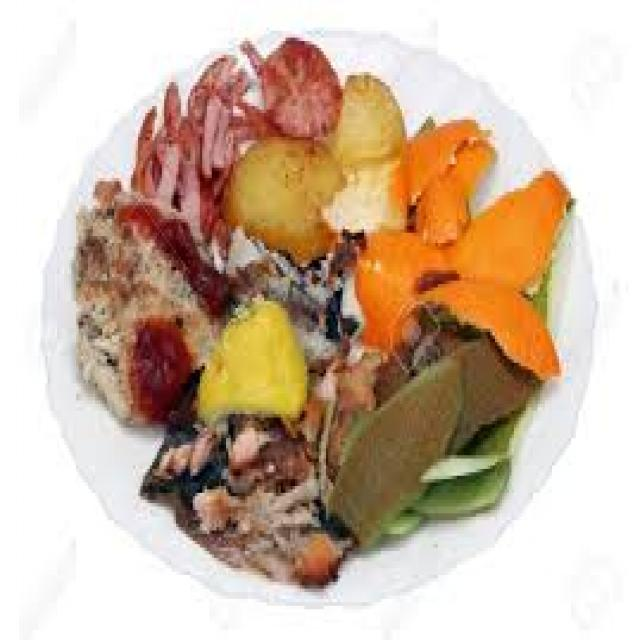organic waste: (76, 178, 233, 421), (328, 346, 457, 540), (217, 226, 364, 363), (381, 400, 521, 538), (176, 472, 352, 578), (386, 270, 559, 370), (378, 332, 536, 441), (219, 134, 342, 264), (447, 164, 569, 291), (128, 82, 226, 240), (190, 294, 304, 424), (352, 232, 452, 346), (295, 342, 378, 479), (238, 31, 340, 137), (414, 137, 492, 236), (393, 116, 483, 198), (324, 72, 404, 164), (319, 158, 407, 240), (188, 48, 245, 161), (224, 418, 312, 476), (143, 435, 221, 496), (228, 96, 272, 144), (524, 267, 542, 318)
